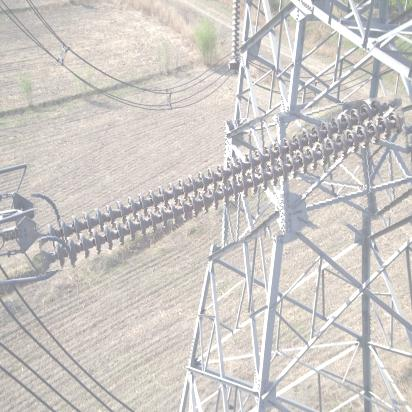insulator: (28, 108, 412, 258)
